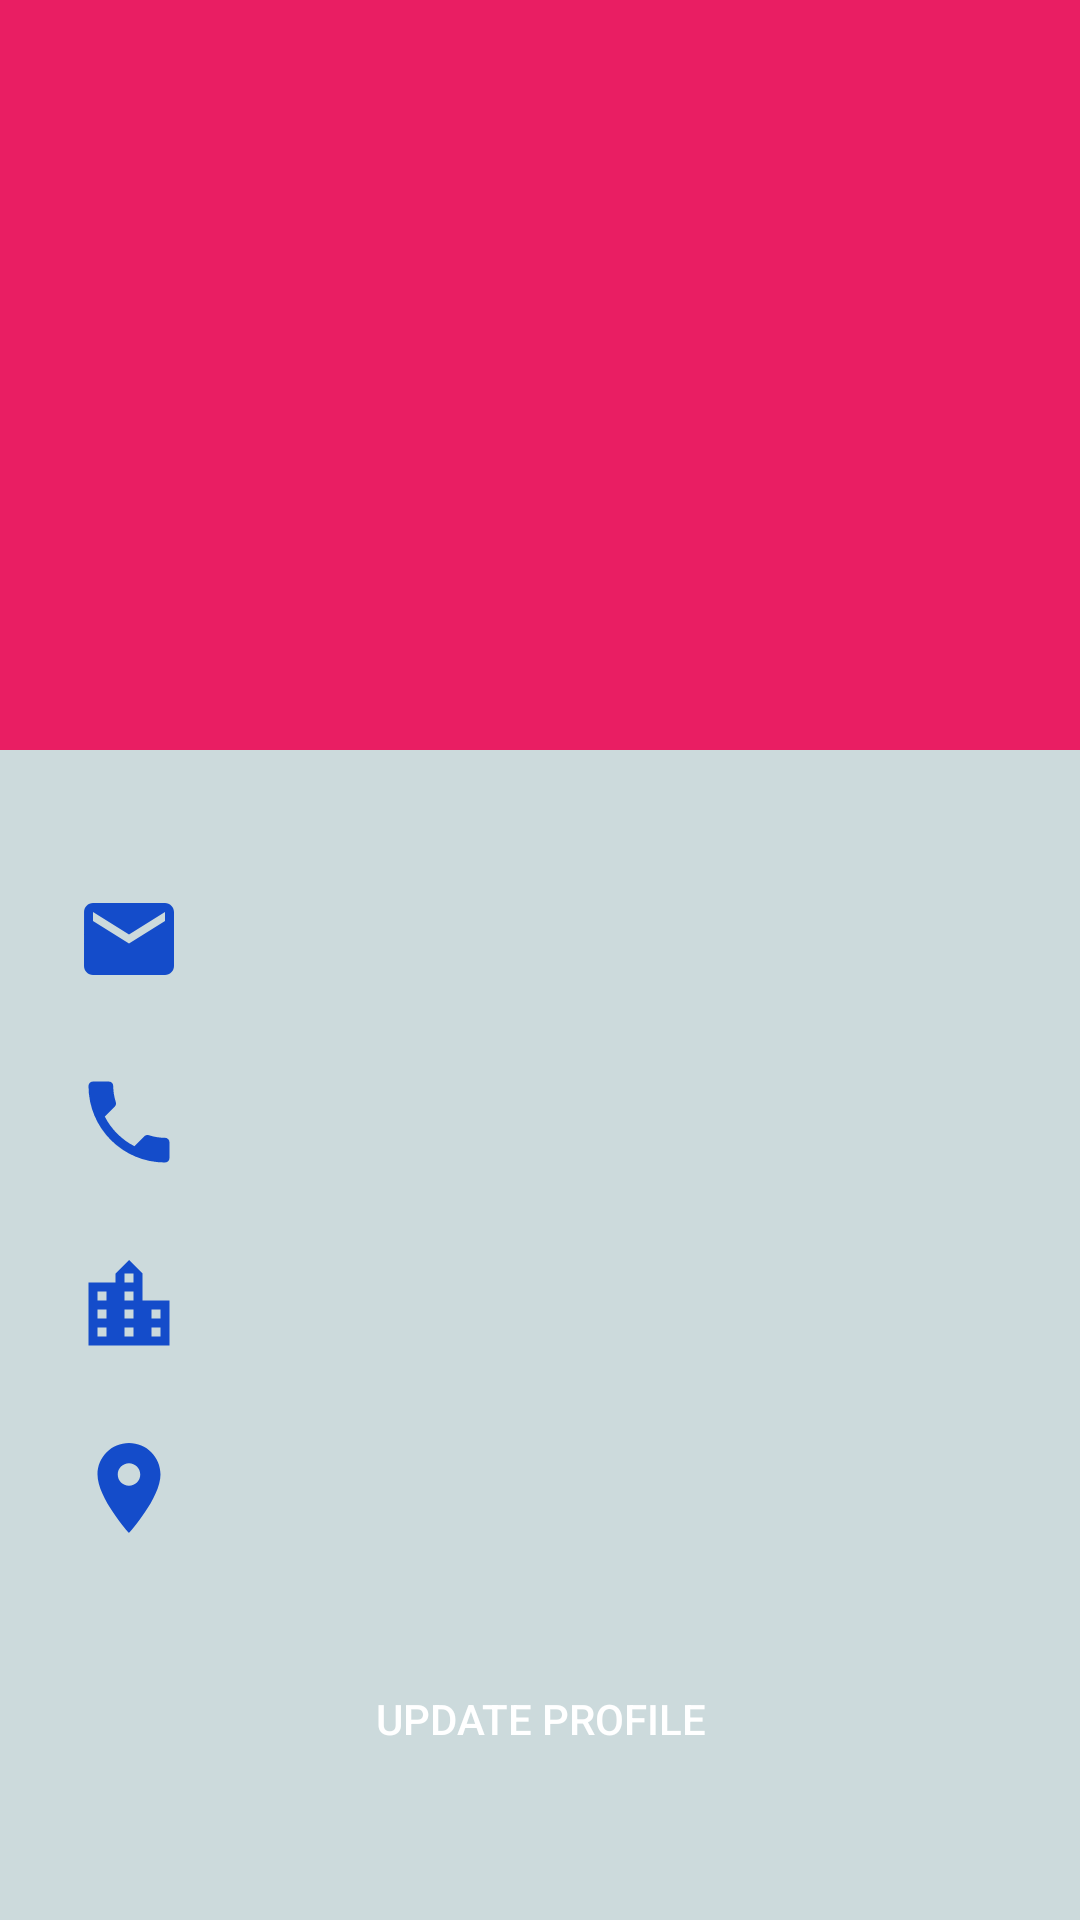

Screen size 1080*1920. Icon name, then its box in pixels as (x1, y1, x2, y2):
email: (84, 903, 174, 975)
location city: (88, 1260, 170, 1346)
location on: (97, 1443, 161, 1533)
phone: (88, 1081, 170, 1163)
